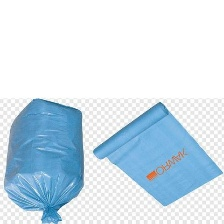plastic_bag: (91, 97, 224, 210), (0, 95, 90, 223)
